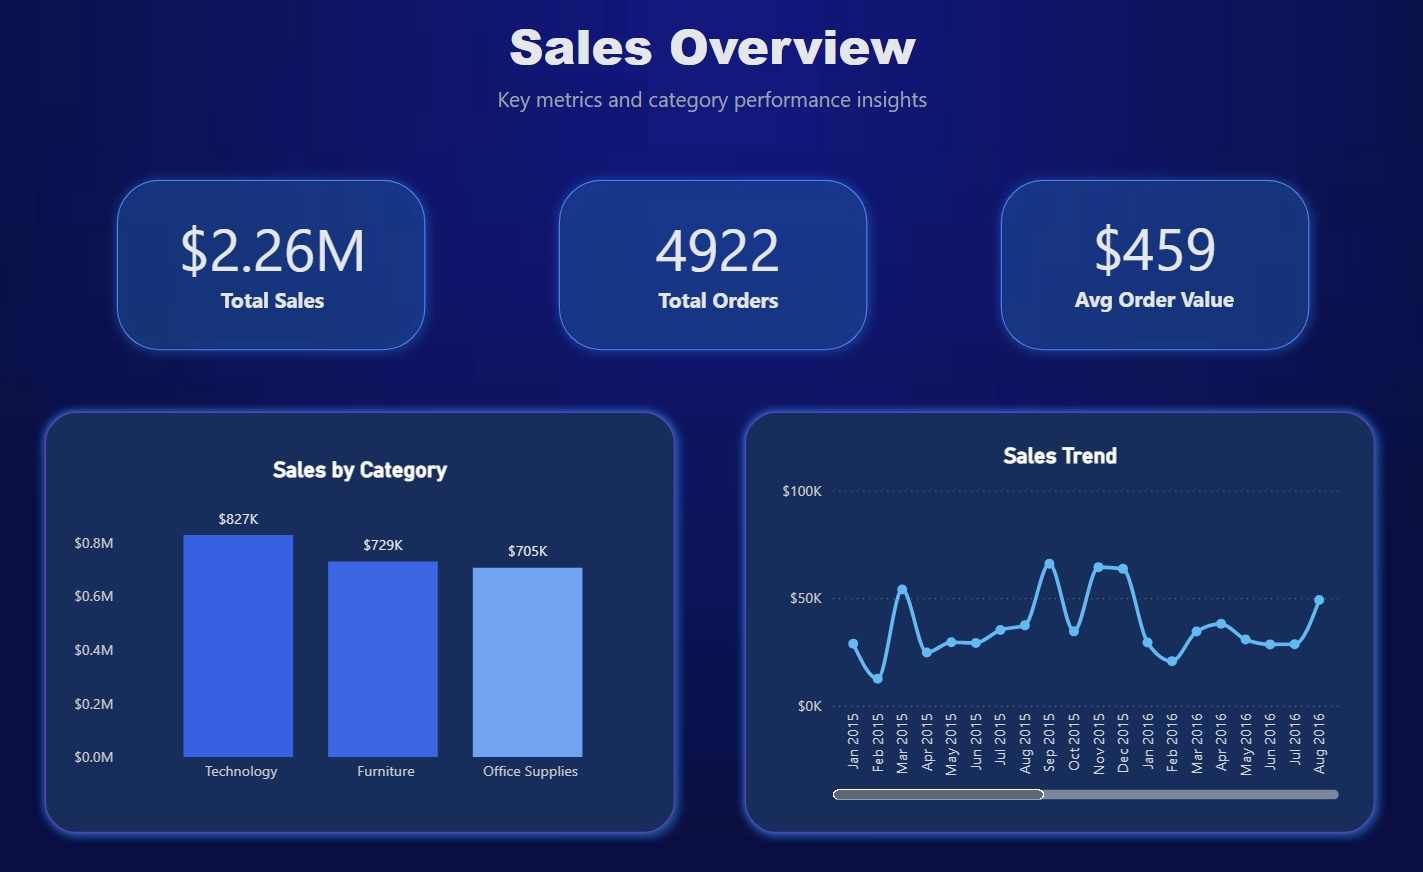

What the dashboard file says about the page in this screenshot:
{"tool":"powerbi","page":{"name":"Sales Overview","canvas":[1250,730],"ordinal":0},"visuals":[{"type":"shape","box":[498.5,143.2,275.2,160.1],"z":0},{"type":"shape","box":[866.1,143.2,275.2,160.1],"z":1000},{"type":"shape","box":[70,337,543,369],"z":2000},{"type":"shape","box":[130.8,143.2,275.2,160.1],"z":3000},{"type":"shape","box":[653,337,543,369],"z":4000},{"type":"card","fields":{"Values":["train.Total Sales"]},"box":[172.5,162.4,190.6,116.2],"z":5000},{"type":"card","fields":{"Values":["train.Total Orders"]},"box":[544.7,162.4,190.6,116.2],"z":6000},{"type":"card","fields":{"Values":["train.Avg Order Value"]},"box":[907.8,162.4,190.6,115],"z":7000},{"type":"clusteredColumnChart","title":"Sales by Category","fields":{"Category":["train.Category"],"Y":["train.Total Sales"]},"box":[98,383,487,280],"z":8000},{"type":"lineChart","title":"Sales Trend","fields":{"Category":["train.Month Year"],"Y":["train.Total Sales"]},"box":[688,371,474,302],"z":9000},{"type":"textbox","title":"Sales Overview","box":[187,12,897,91],"z":10001}]}

Visuals, with their boxes on the page's 1250x730 design canvas (x1, y1, x2, y2). These are canvas units, not pixel positions in the 1423x872 screenshot, which may show the page scaled, cropped or inside an application window:
shape: <box>498,143,774,303</box>
shape: <box>866,143,1141,303</box>
shape: <box>70,337,613,706</box>
shape: <box>131,143,406,303</box>
shape: <box>653,337,1196,706</box>
card - train.Total Sales: <box>172,162,363,279</box>
card - train.Total Orders: <box>545,162,735,279</box>
card - train.Avg Order Value: <box>908,162,1098,277</box>
"Sales by Category" clusteredColumnChart: <box>98,383,585,663</box>
"Sales Trend" lineChart: <box>688,371,1162,673</box>
"Sales Overview" textbox: <box>187,12,1084,103</box>
